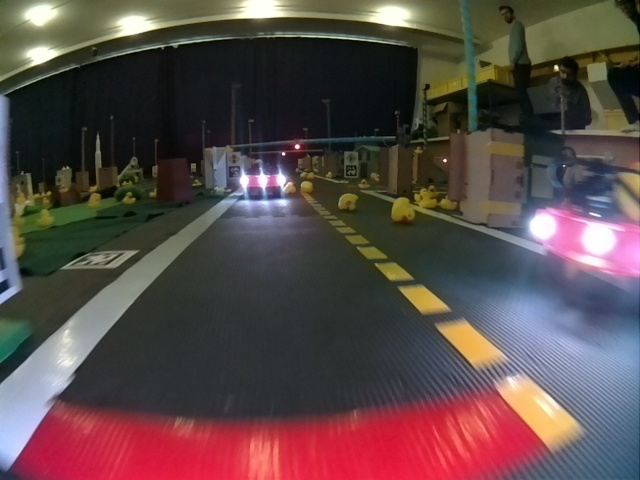Duckie: (392, 197, 415, 220), (338, 194, 358, 211), (36, 210, 52, 226), (418, 193, 436, 207), (123, 192, 136, 204), (285, 182, 295, 192), (301, 181, 310, 191), (360, 179, 369, 188)
Duckiebot: (528, 161, 638, 297), (240, 166, 284, 198)
Intersection sign: (346, 153, 358, 163)
QR code: (63, 249, 139, 268)
Traffic light: (280, 150, 286, 158)
